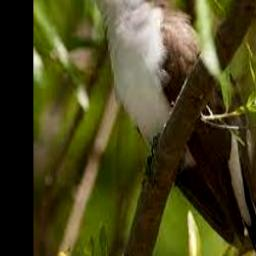Cuckoo: (64, 0, 256, 256)
